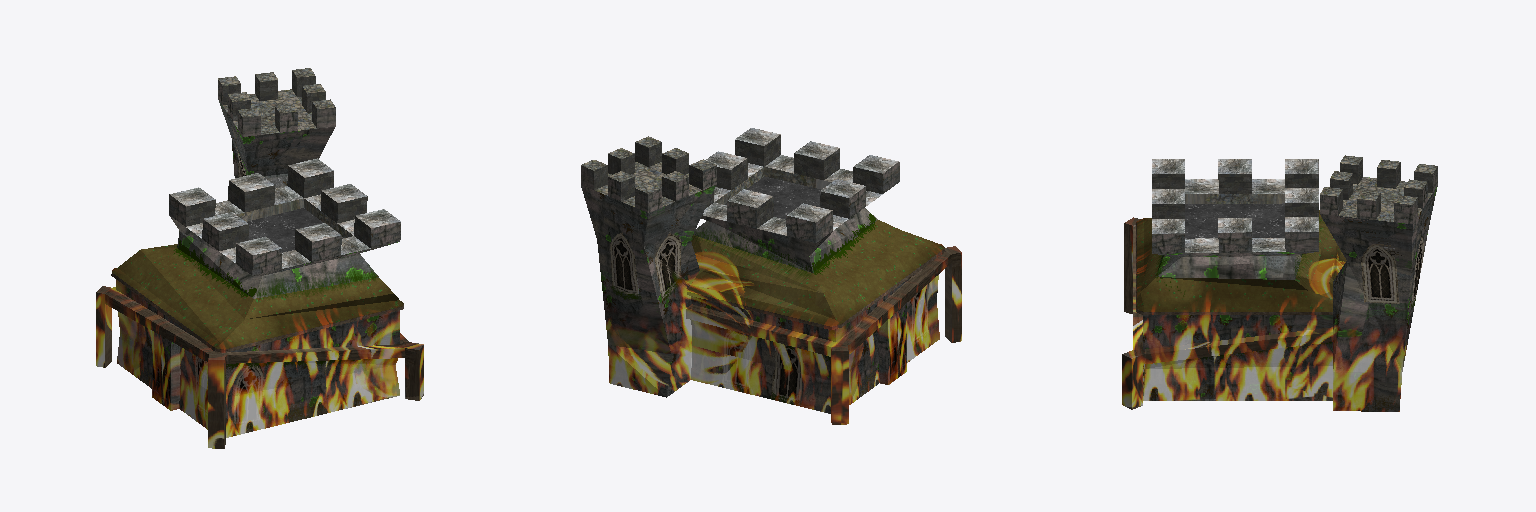
3 views of the same model, side by side, from view 1: azimuth 30°, elevation 25°; view 2: azimuth 150°, elevation 25°; view 3: azimuth 270°, elevation 25° (orthographic).
Parts seen in each view (by area): view 1: Plane_Plane; view 2: Plane_Plane; view 3: Plane_Plane.
Part boxes in pixels (left/top/right/bottom): Plane_Plane: left=96, top=68, right=423, bottom=448; Plane_Plane: left=581, top=128, right=961, bottom=424; Plane_Plane: left=1122, top=155, right=1437, bottom=411.
Size of the model in its own units: 7.5 by 6.51 by 8.47.
1 materials, 1 textured.